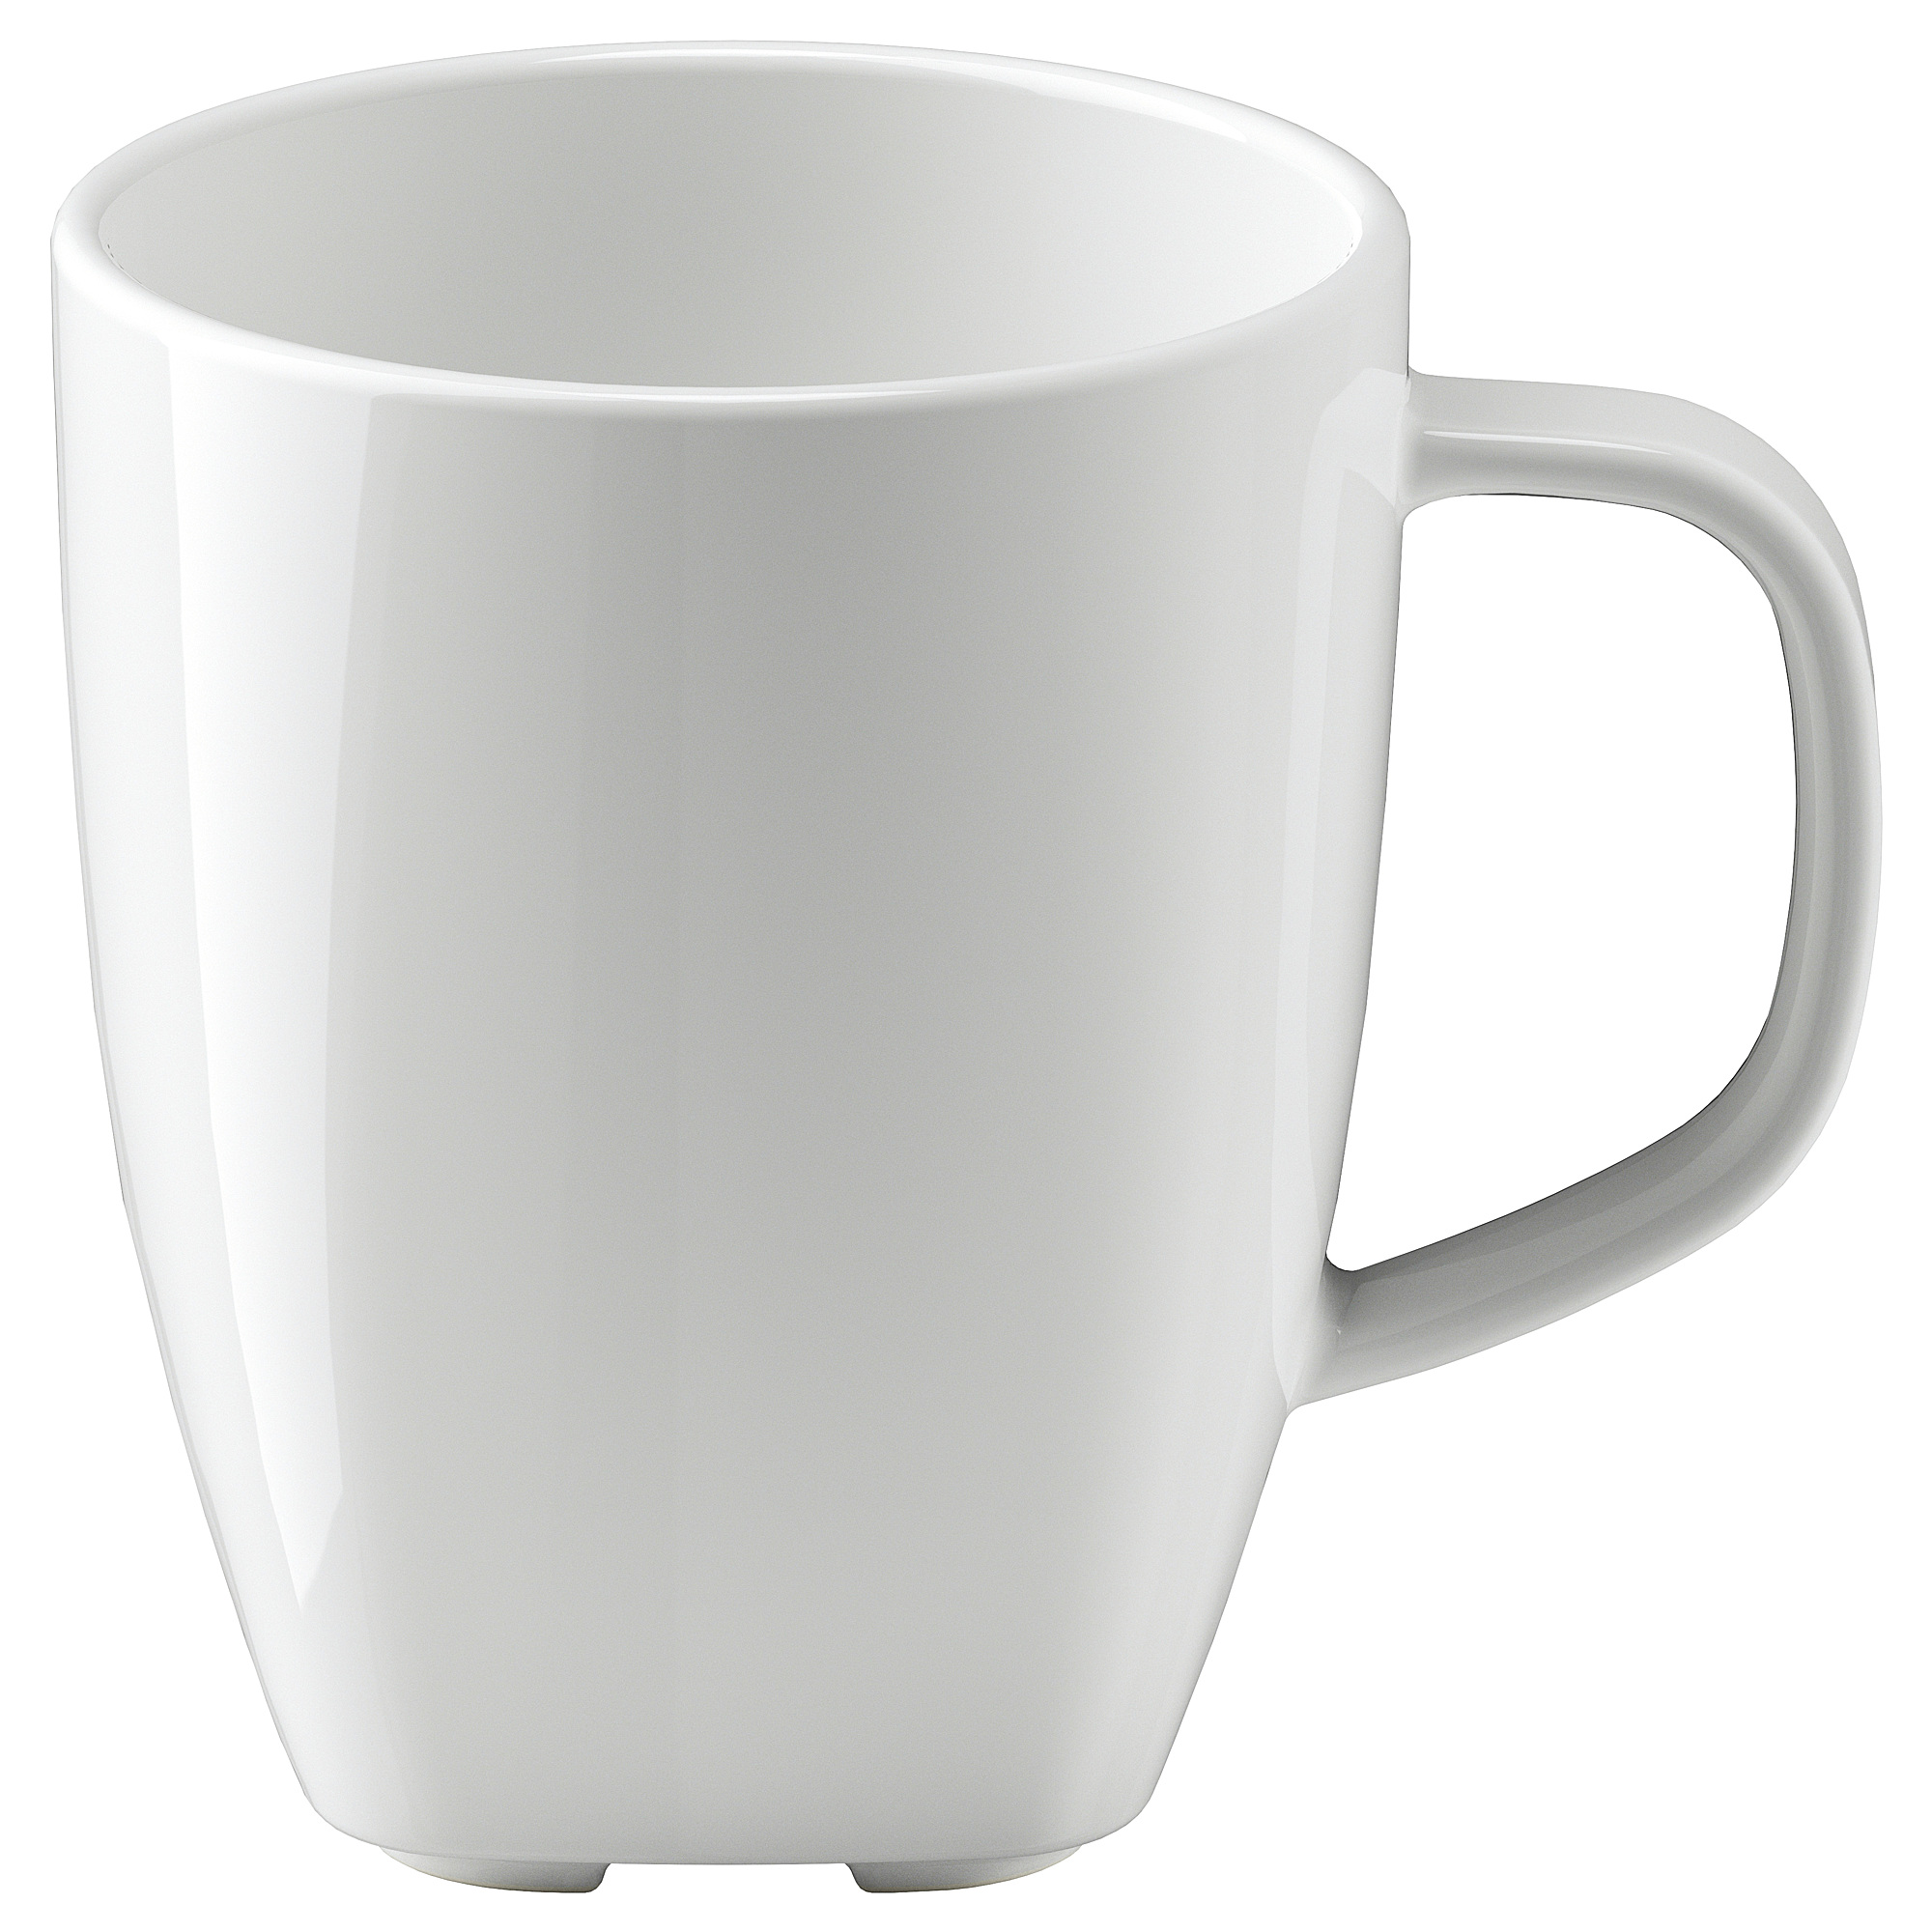gelas: (34, 28, 1886, 1895)
